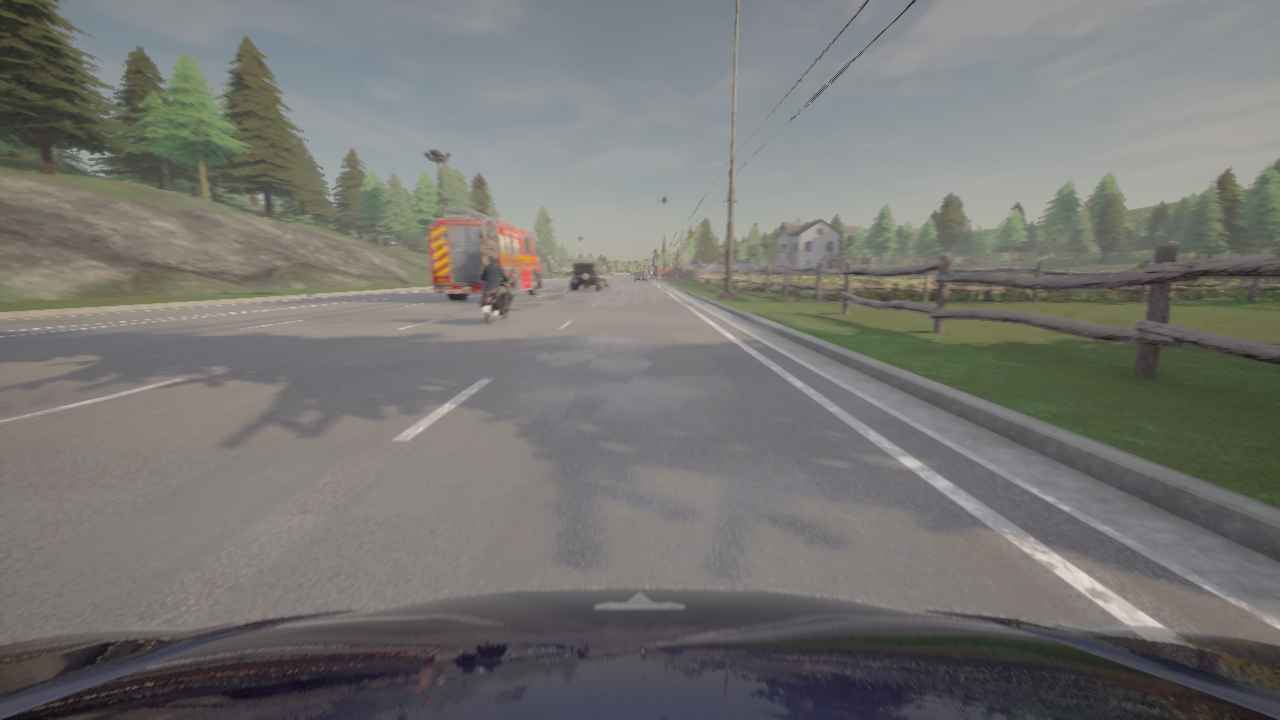cyclist: (0, 588, 1279, 719), (430, 207, 543, 300), (481, 272, 514, 324), (570, 263, 602, 291), (584, 269, 610, 288), (634, 271, 647, 282)
